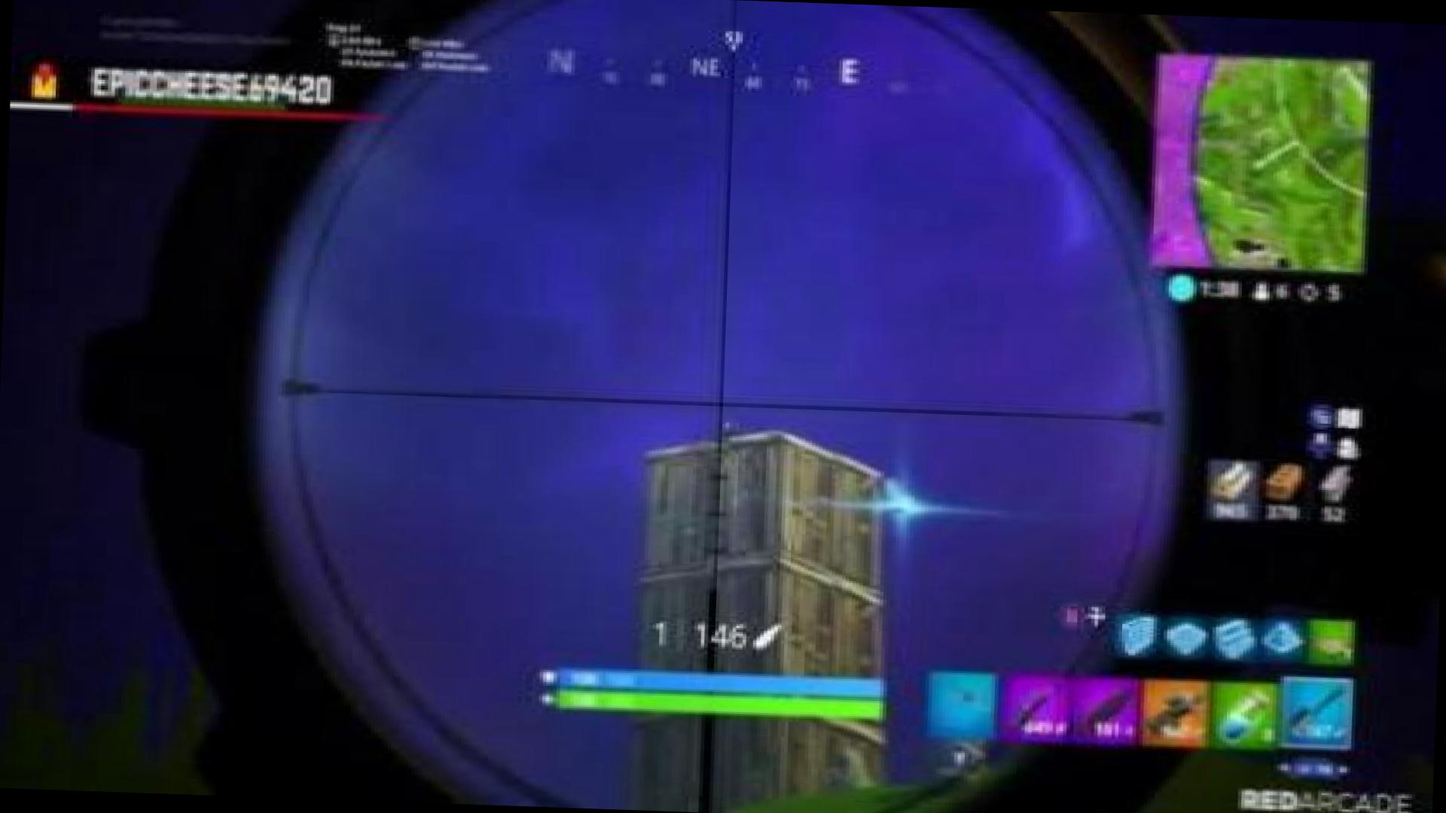player: (718, 421, 744, 445)
